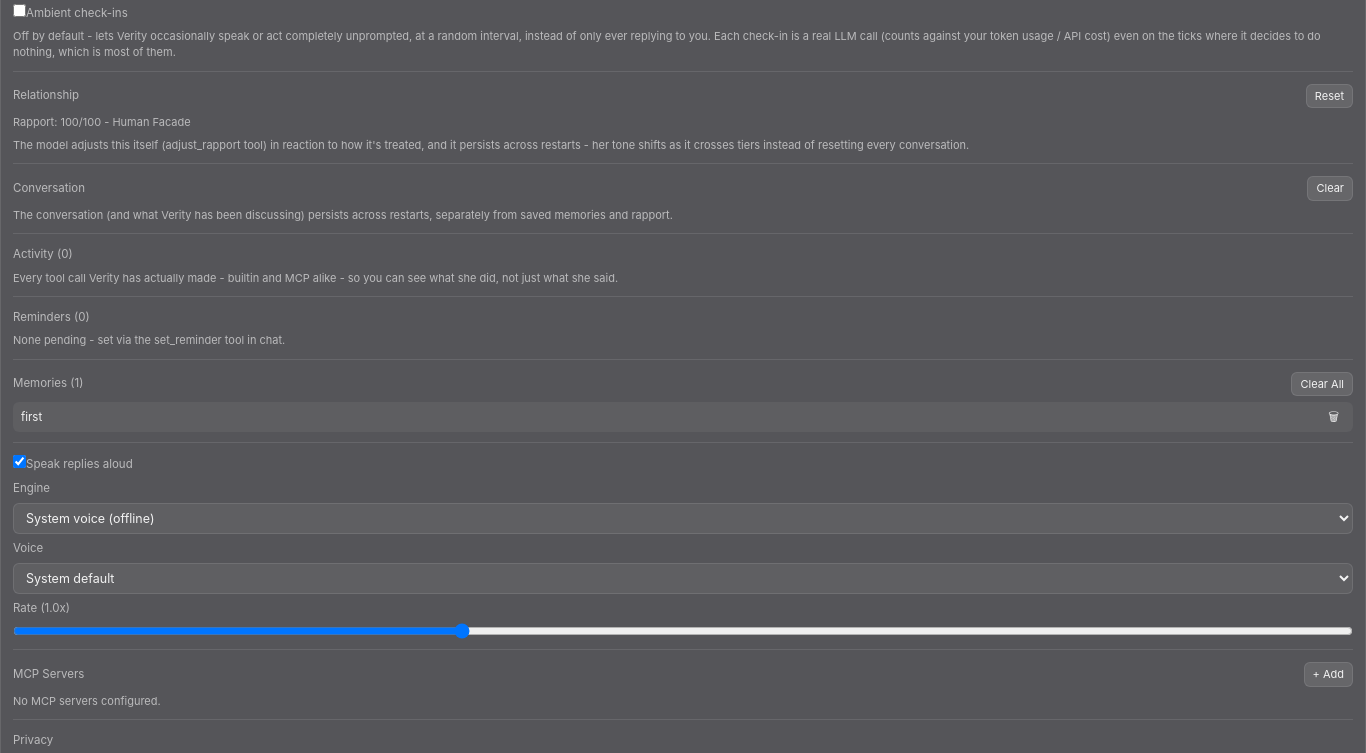
Scenario: SettingsPanel › memories › clears all memories when Clear All is confirmed
(page scrolled)
Expected: the text "Memories (1)" is shown, [13,375,83,393]
Click the button "Clear All".
click(1322, 384)  # box [1291,372,1353,396]
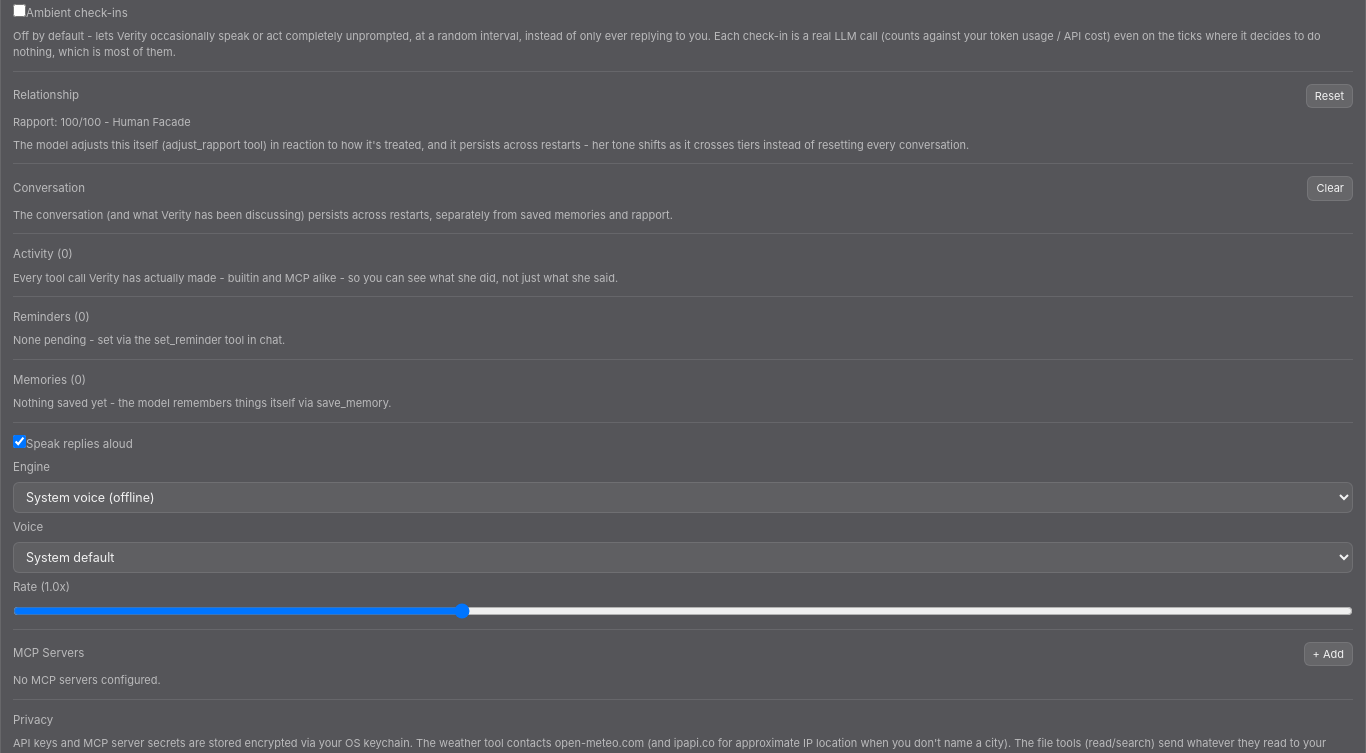
Result: the text "Memories (0)" is shown at [13,372,86,389]
